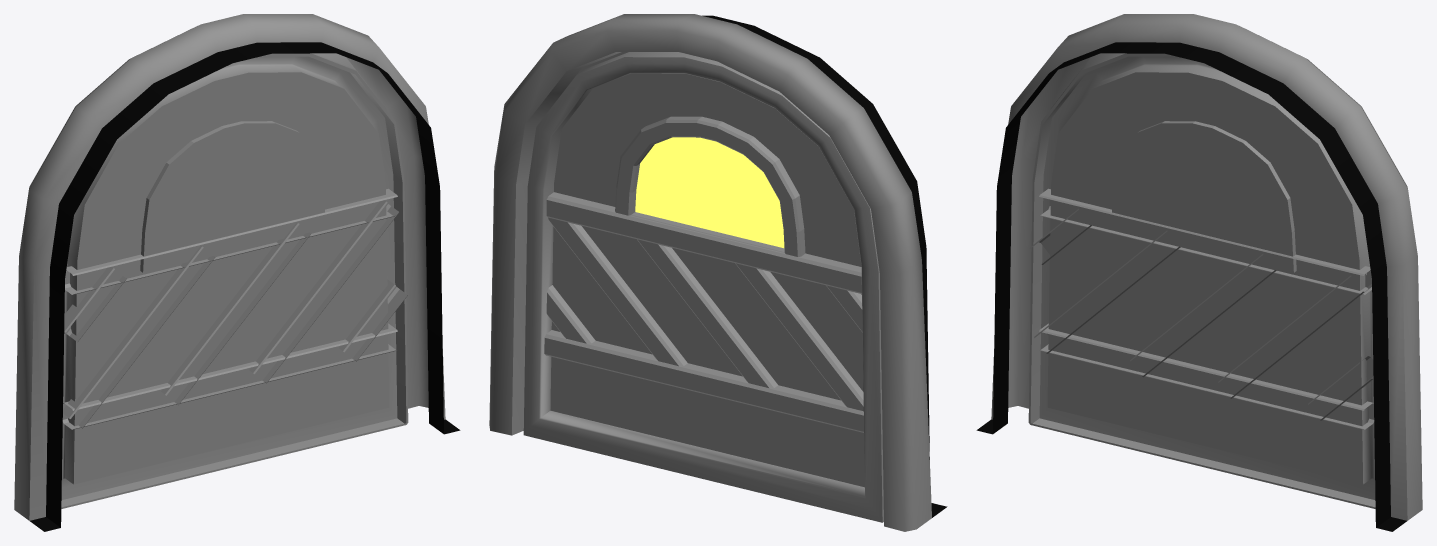
Rendered from mesh_Factory_Door.fbx.
3 views of the same model, side by side, from view 1: azimuth 30°, elevation 25°; view 2: azimuth 150°, elevation 25°; view 3: azimuth 330°, elevation 25° (orthographic). The views are drawn at different scales.
Visible parts, largest first — view 1: mesh_Factory_Door; view 2: mesh_Factory_Door; view 3: mesh_Factory_Door.
Boxes of the visible parts, left/top/right/bottom form: mesh_Factory_Door: left=14, top=14, right=460, bottom=531; mesh_Factory_Door: left=489, top=14, right=947, bottom=531; mesh_Factory_Door: left=976, top=14, right=1422, bottom=531.
Bounding box in the file's own units: 2.97 × 3.01 × 0.4394.
